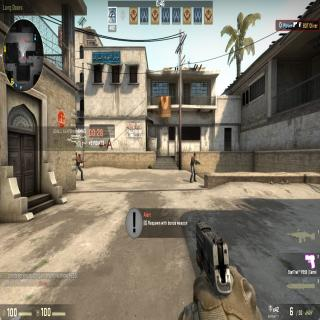T-Body: (75, 153, 83, 180), (190, 152, 197, 182)
T-Head: (193, 152, 196, 158), (78, 152, 81, 157)
